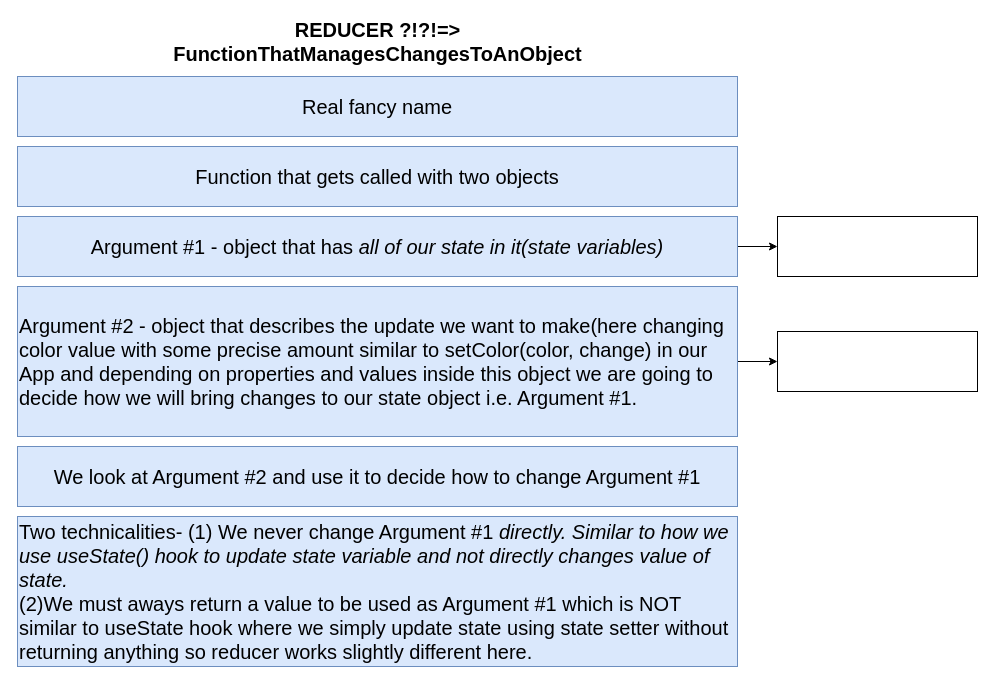
This 995x684 diagram has some shape labels left out. The centre of each missing label's shape, as x and y in pixels:
"{colorToChange:'red', amount:15}" belongs at (877,361).
"{red:0, green:0, blue:0}" belongs at (877,246).
